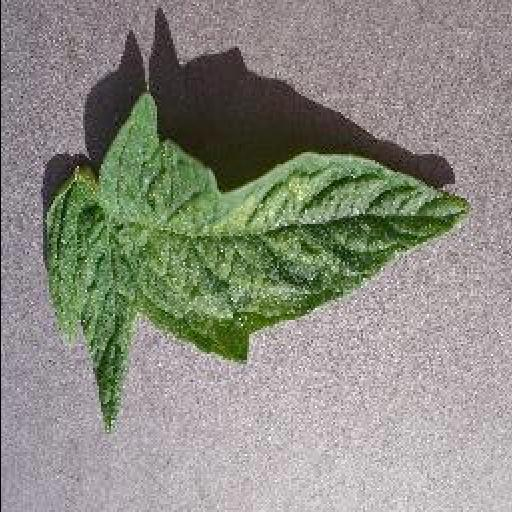disease_tomato: (42, 91, 478, 433)
